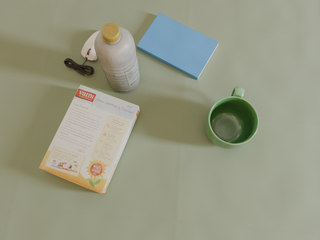book: (137, 13, 219, 80)
bottle: (94, 23, 140, 93)
box: (39, 85, 140, 194)
cup: (205, 87, 259, 149)
mouse: (81, 31, 100, 61)
